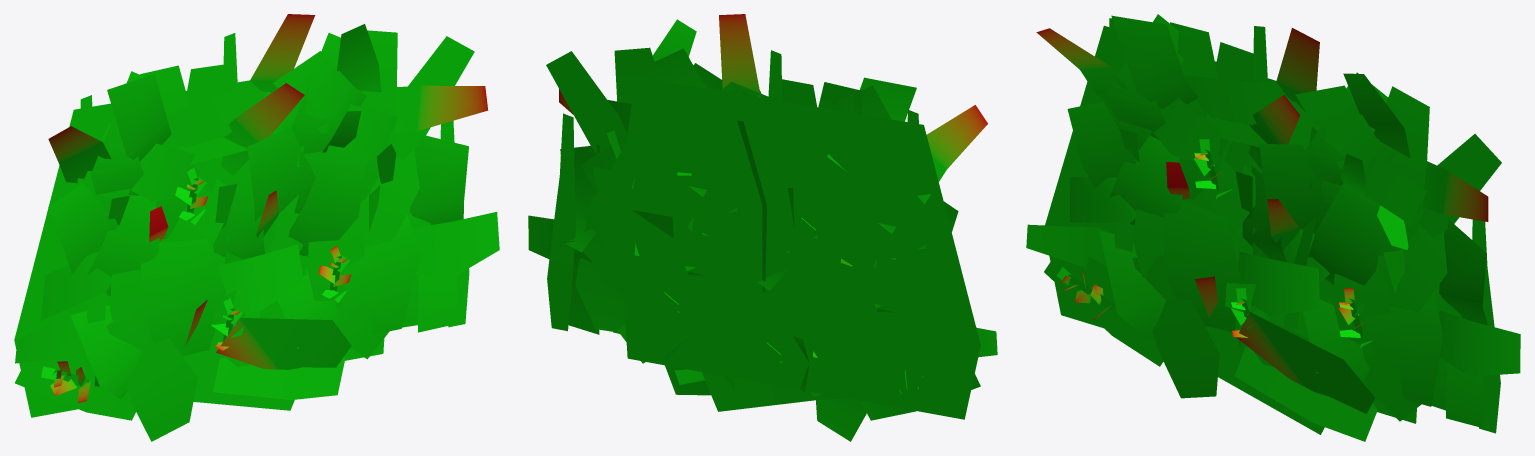
The model's file is VegetationIvy_01_Mesh.fbx.
3 renders of one model, left to right at view 1: azimuth 30°, elevation 25°; view 2: azimuth 150°, elevation 25°; view 3: azimuth 330°, elevation 25°, orthographic. The views are drawn at different scales.
Parts seen in each view (by area): view 1: VegetationLeaf_LOD0; view 2: VegetationLeaf_LOD0; view 3: VegetationLeaf_LOD0.
Boxes of the visible parts, x1=… form: VegetationLeaf_LOD0: x1=14, y1=14, x2=499, y2=441; VegetationLeaf_LOD0: x1=528, y1=14, x2=997, y2=441; VegetationLeaf_LOD0: x1=1026, y1=14, x2=1520, y2=441.
Size of what is drawn, in the model's own units: 46.9 by 37.71 by 4.8.
